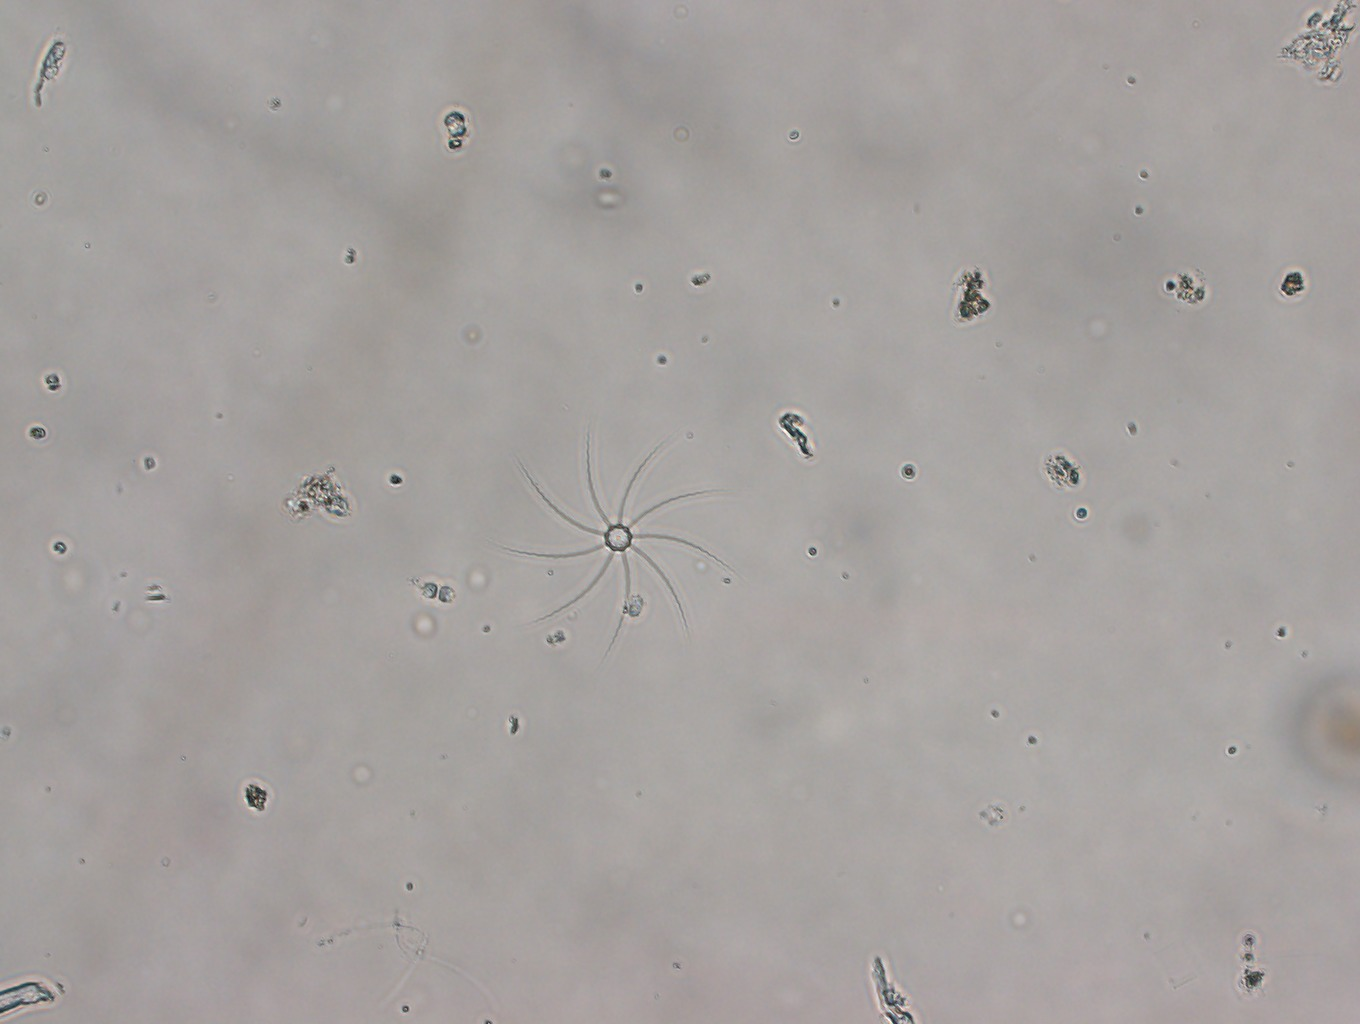bacteriastrum: (490, 414, 743, 662)
